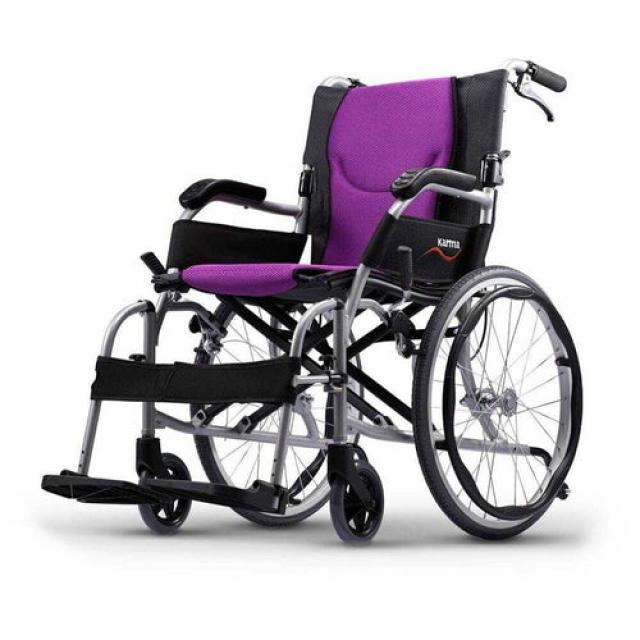wheelchair: (31, 46, 624, 577)
